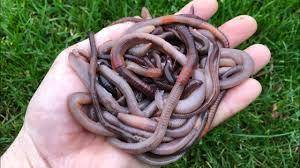insect: (108, 24, 193, 151), (121, 16, 238, 47), (193, 43, 229, 143), (86, 30, 106, 133), (214, 43, 257, 90)
